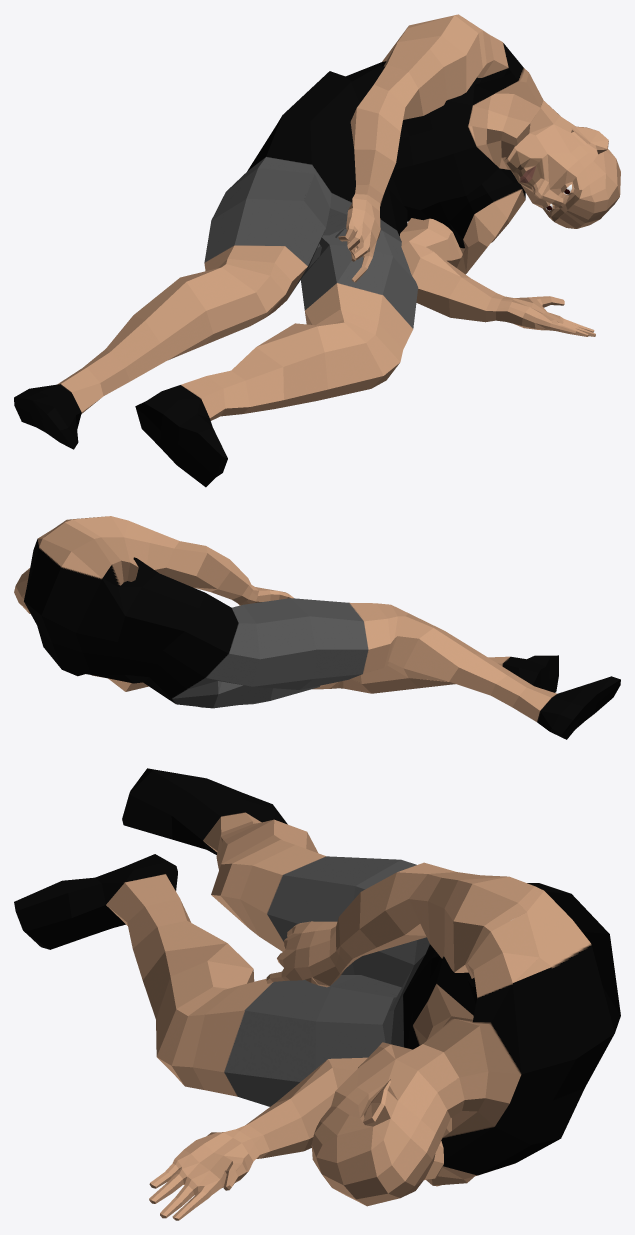
The model's file is PlayerDead(98).obj.
3 renders of one model, top to bottom at view 1: azimuth 30°, elevation 25°; view 2: azimuth 150°, elevation 25°; view 3: azimuth 270°, elevation 25°, orthographic. The views are drawn at different scales.
Visible parts, largest first — view 1: Plane002; view 2: Plane002; view 3: Plane002.
Part boxes in pixels (x1,y1,x2,y2): Plane002: (14,14,620,487); Plane002: (14,516,620,739); Plane002: (14,768,620,1220).
Bounding box in the file's own units: 1579 × 549 × 929.
